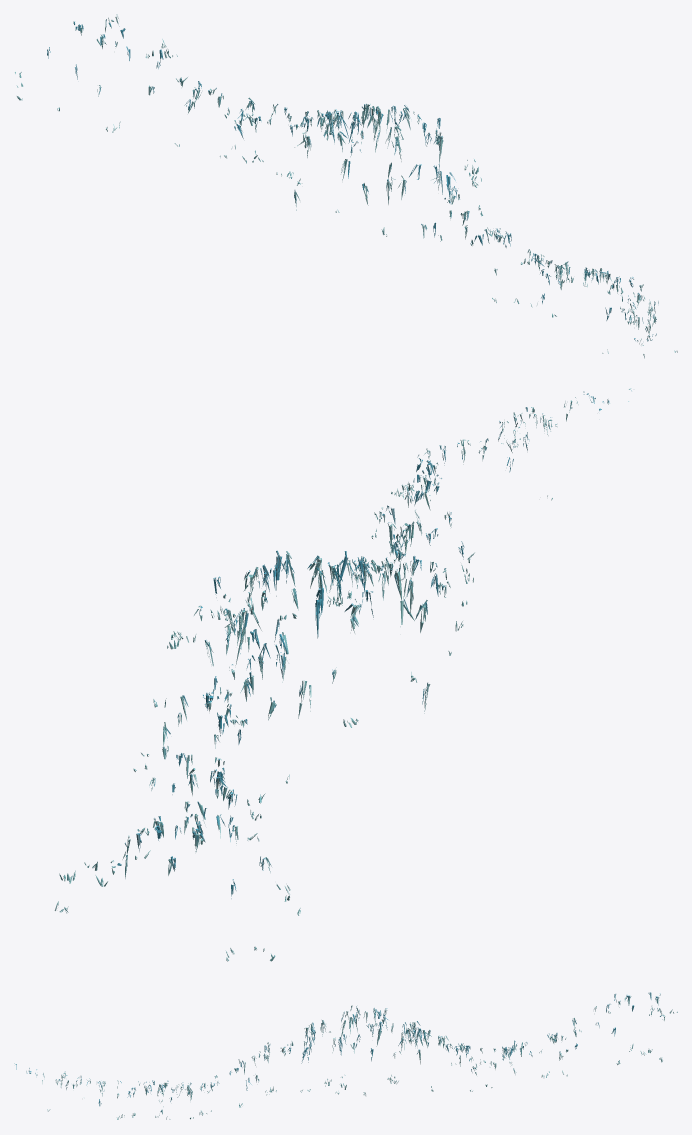
File: cave_echo_grotto_glow_lod1.glb
The picture shows the model from 3 angles, top to bottom: view 1: azimuth 30°, elevation 25°; view 2: azimuth 150°, elevation 25°; view 3: azimuth 270°, elevation 25°; orthographic projection. The views are drawn at different scales.
Visible parts, largest first — view 1: geometry_0; view 2: geometry_0; view 3: geometry_0.
Boxes of the visible parts, x1,y1,x2,y2 form: geometry_0: (15, 14, 677, 358); geometry_0: (54, 388, 631, 961); geometry_0: (14, 992, 677, 1119).
Bounding box in the file's own units: 65.12 × 24.31 × 185.
